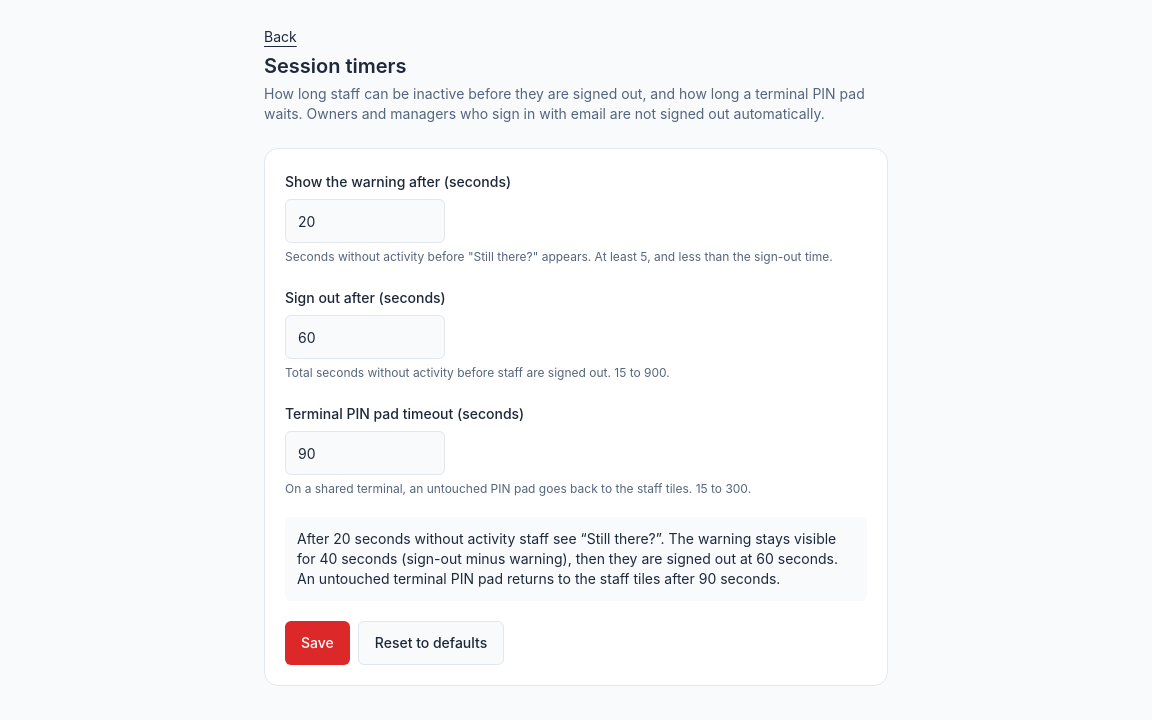
Test case: SessionTimersPage › resets to 15 / 30 / 60 after confirmation
Expected: the number field labelled "Show the warning after (seconds)" holds "20", [285, 199, 445, 243]
Click the button "Reset to defaults".
click(431, 643)  # box [358, 621, 504, 665]
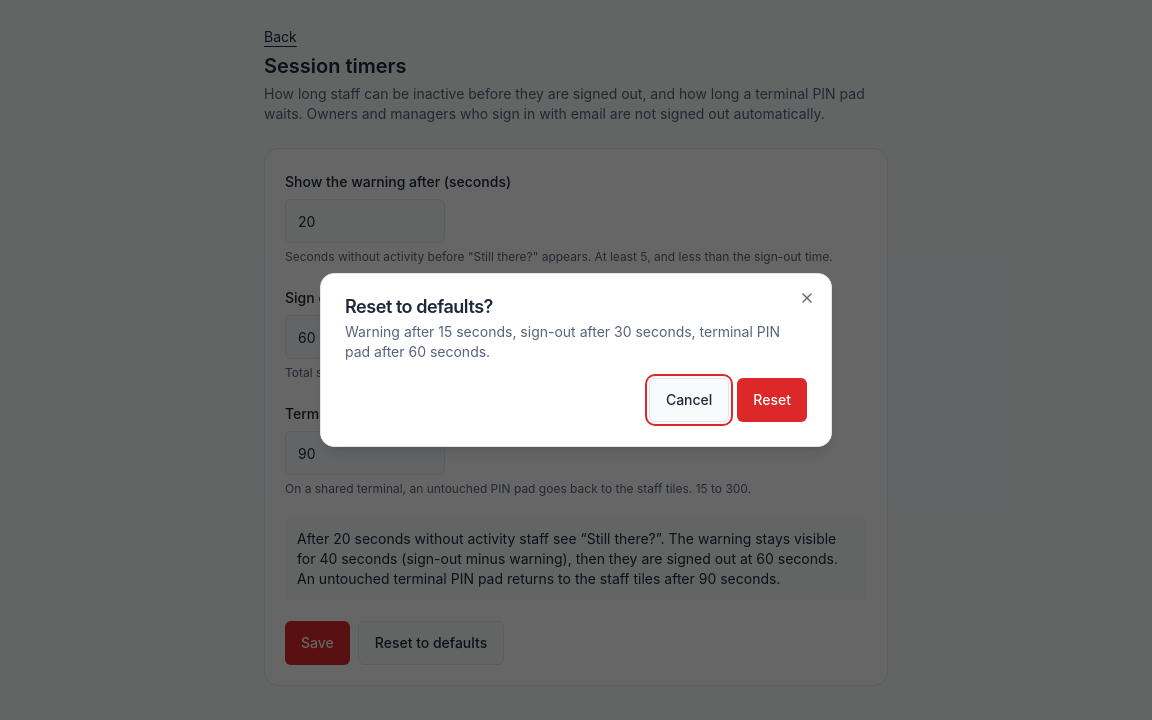
Expected: the dialog shows "Warning after 15 seconds, sign-out after 30 seconds, terminal PIN pad after 60 seconds.", [320, 273, 832, 447]
Click the button "Reset".
click(772, 400)  # box [737, 378, 807, 422]
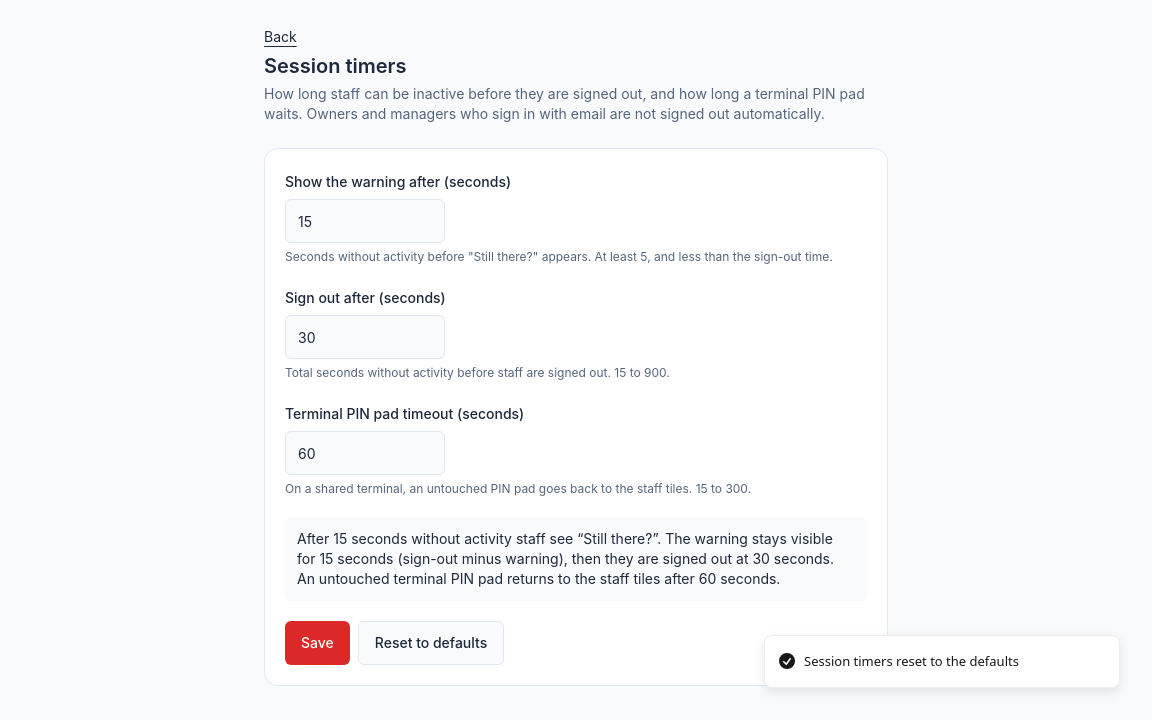
Expected: the number field labelled "Show the warning after (seconds)" holds "15", [285, 199, 445, 243]
Expected: the number field labelled "Sign out after (seconds)" holds "30", [285, 315, 445, 359]
Expected: the number field labelled "Terminal PIN pad timeout (seconds)" holds "60", [285, 431, 445, 475]
